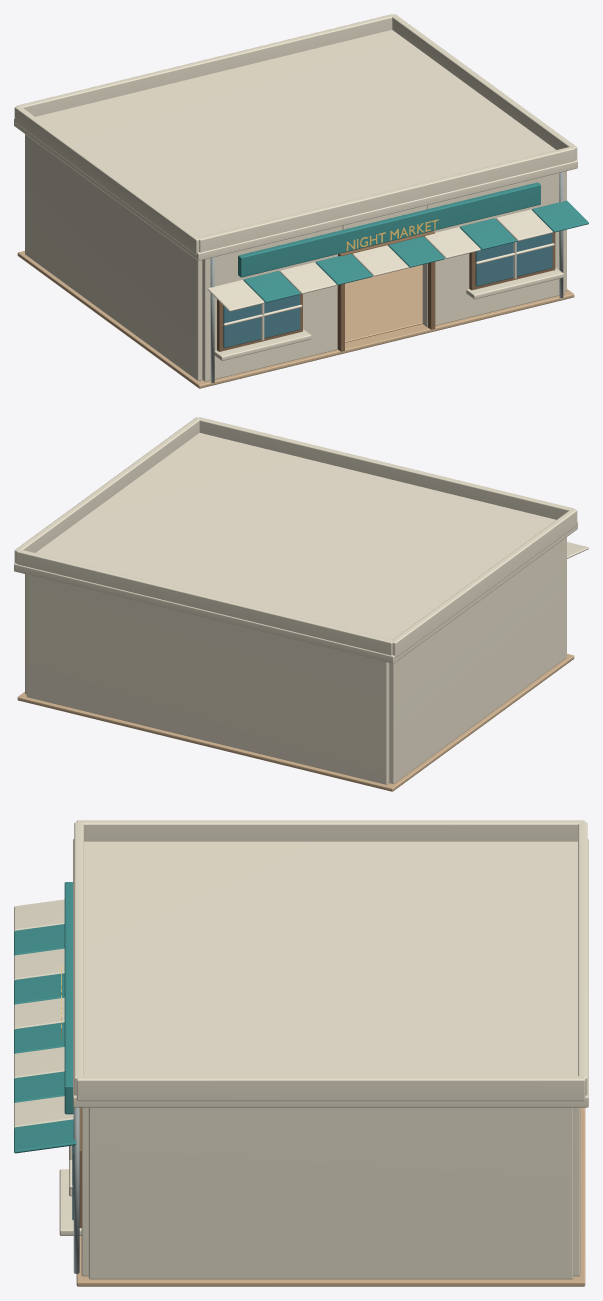
The model's file is shop.glb.
The picture shows the model from 3 angles, top to bottom: view 1: azimuth 30°, elevation 25°; view 2: azimuth 150°, elevation 25°; view 3: azimuth 270°, elevation 25°; orthographic projection. The views are drawn at different scales.
Parts seen in each view (by area): view 1: cream, teal, sand, glass, wood, metal, gold; view 2: cream, sand; view 3: cream, teal, sand, metal.
Part boxes in pixels (bbox=[...]): cream: bbox=[14, 14, 577, 381]; teal: bbox=[238, 182, 588, 302]; sand: bbox=[17, 251, 574, 388]; glass: bbox=[223, 233, 552, 348]; wood: bbox=[217, 231, 555, 351]; metal: bbox=[210, 172, 563, 382]; gold: bbox=[346, 219, 438, 250]; cream: bbox=[14, 417, 588, 784]; sand: bbox=[17, 654, 574, 791]; cream: bbox=[14, 820, 588, 1279]; teal: bbox=[14, 882, 76, 1153]; sand: bbox=[76, 1107, 585, 1286]; metal: bbox=[73, 1107, 79, 1273].
Size of the model in its own units: 12.7 by 4.77 by 11.87.
